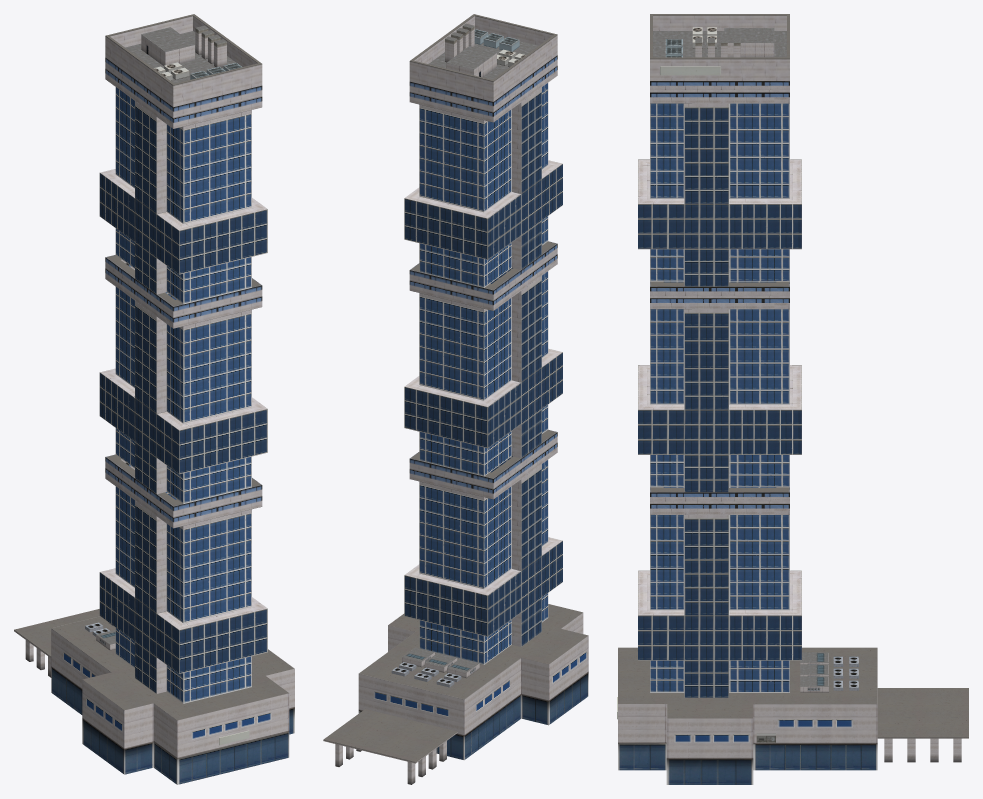
Rendered from Building_05.obj.
The picture shows the model from 3 angles, left to right: view 1: azimuth 30°, elevation 25°; view 2: azimuth 150°, elevation 25°; view 3: azimuth 270°, elevation 25°; orthographic projection. The views are drawn at different scales.
Visible parts, largest first — view 1: Building_05.001_Mesh; view 2: Building_05.001_Mesh; view 3: Building_05.001_Mesh.
Boxes of the visible parts, x1,y1,x2,y2 form: Building_05.001_Mesh: (14, 14, 294, 784); Building_05.001_Mesh: (323, 14, 588, 784); Building_05.001_Mesh: (617, 14, 968, 784).
Size of the model in its own units: 9.17 by 35.71 by 15.92.
